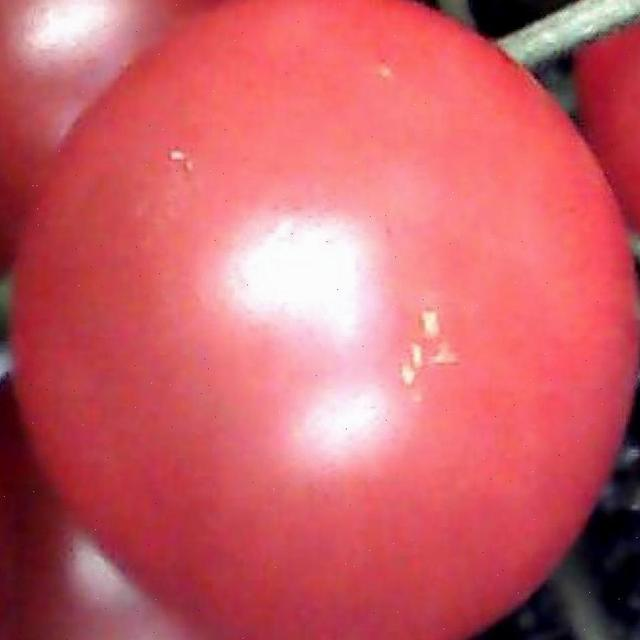Healthy Fruit: (0, 7, 416, 427)
